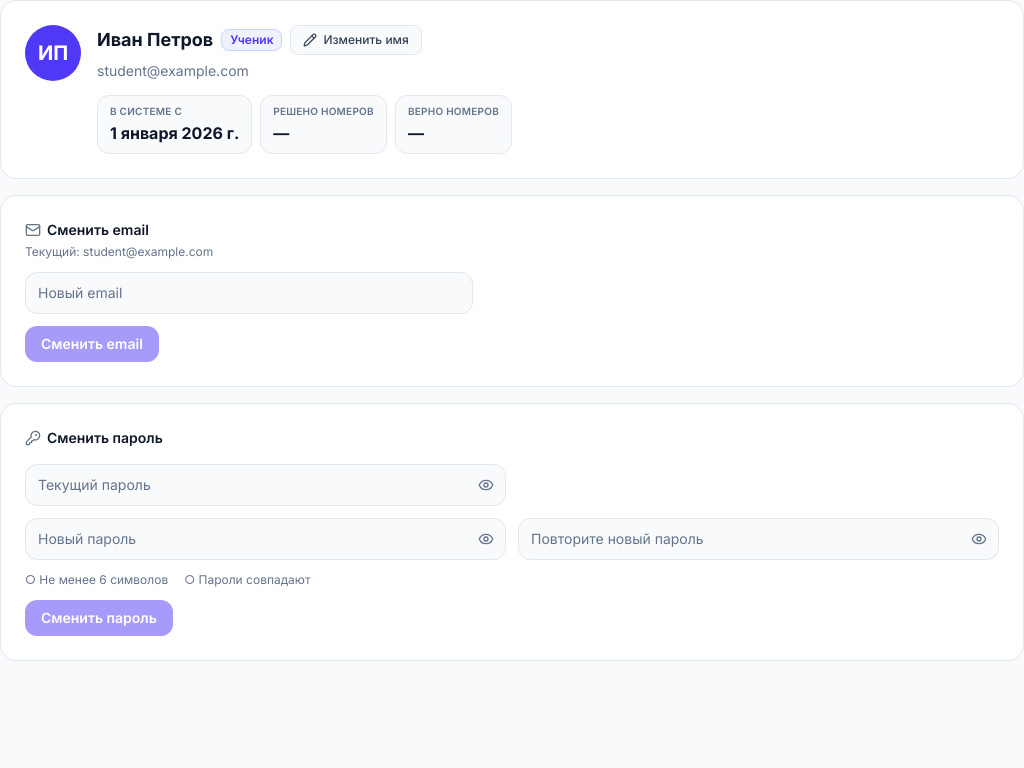
Test: Student ProfilePage — смена имени и фамилии через модал › открывает RenameNameModal по кнопке, без подтверждения не вызывает update, после подтверждения сохраняет и обновляет профиль
The image size is (1024, 768).
Check: the text "Решено номеров" is shown, box [273, 104, 374, 119]
Click the button "Изменить имя" at point(356, 40), box [290, 25, 422, 55]
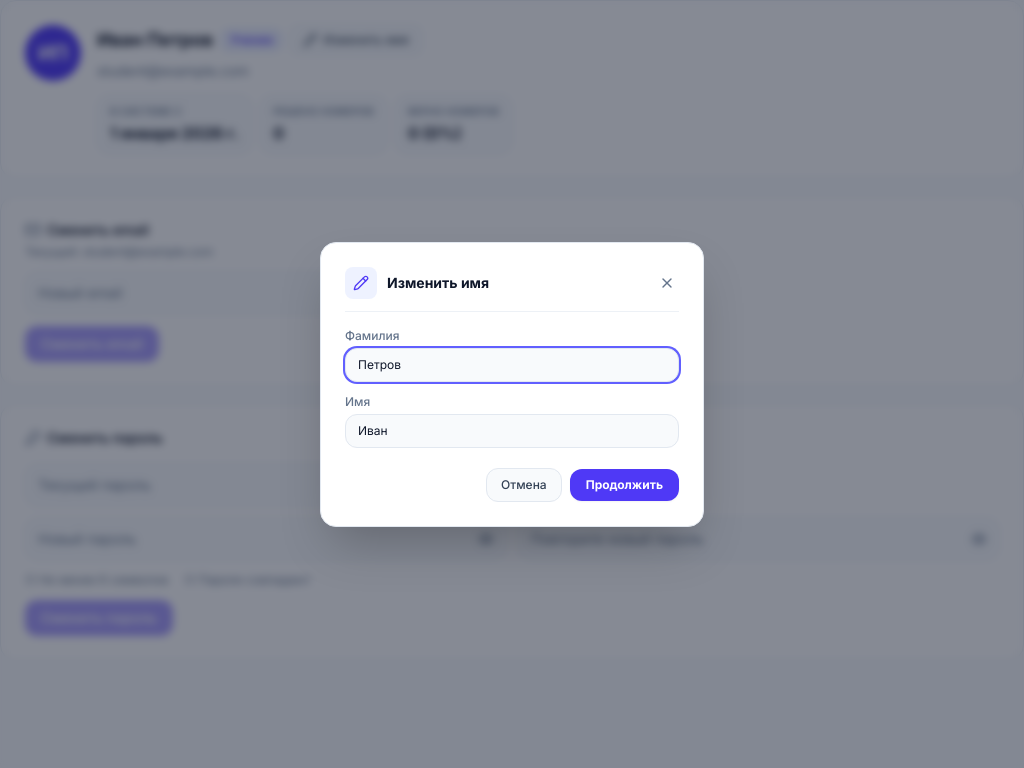
Check: the field labelled "Имя" holds "Иван"
Check: the field labelled "Фамилия" holds "Петров", box [345, 348, 679, 382]
Replace the text in the field labelled "Имя" with "  Артём  " at point(512, 430), box [345, 414, 679, 448]
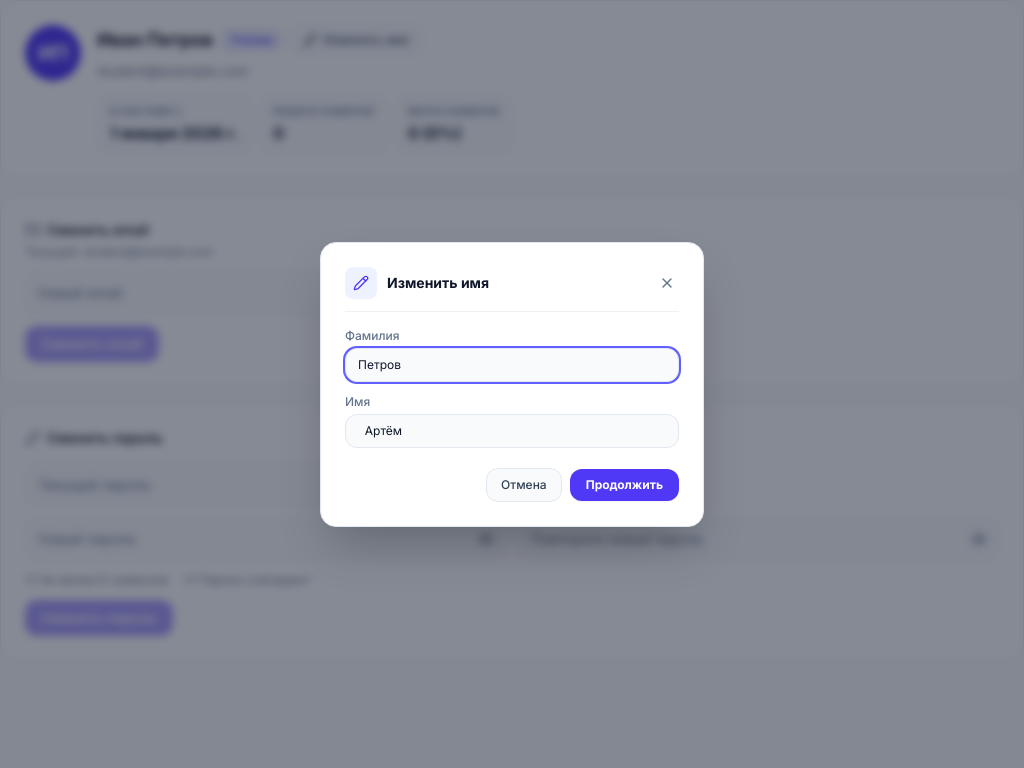
Replace the text in the field labelled "Фамилия" with "  Соколов-Белов  " at point(512, 364), box [345, 348, 679, 382]
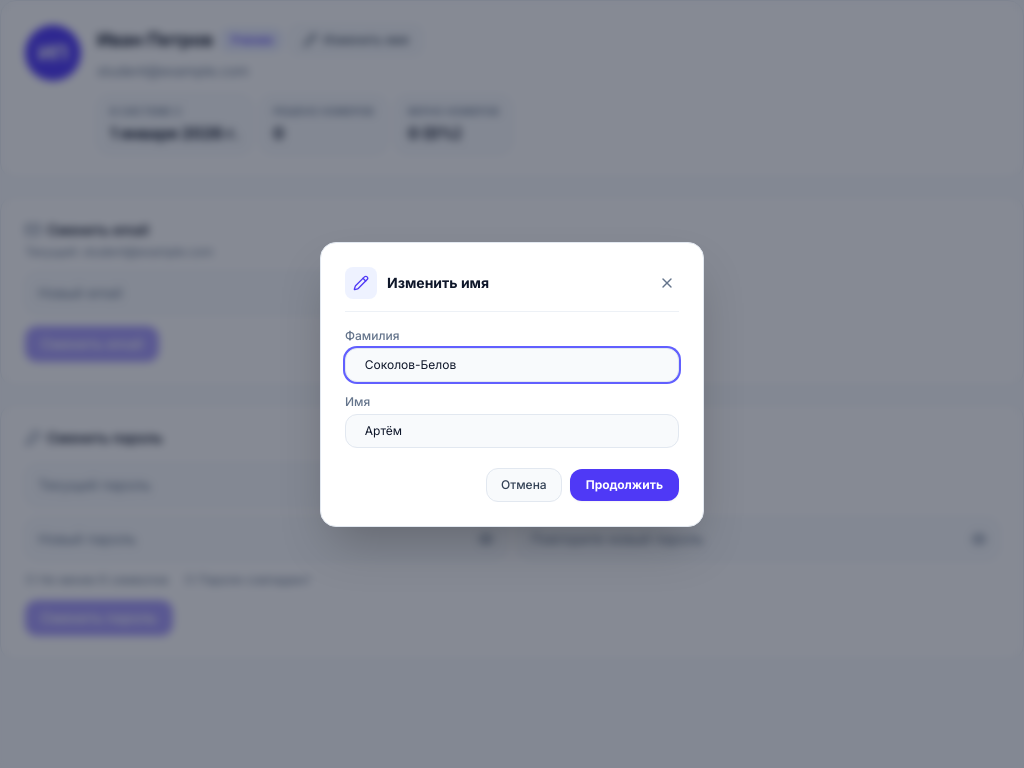
Click the button "Продолжить" at point(624, 484), box [570, 468, 679, 500]
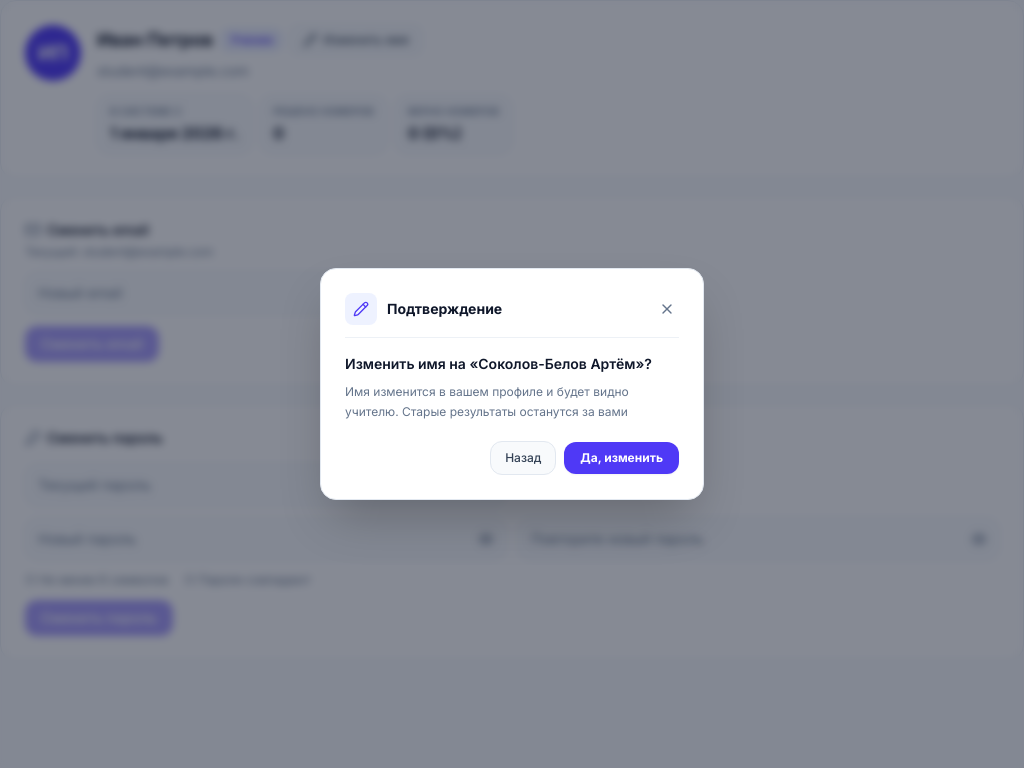
Check: the text "Изменить имя на «Соколов-Белов Артём»?" is shown, box [345, 354, 679, 374]
Check: the text "Имя изменится в вашем профиле и будет видно учителю. Старые результаты останутся за вами" is shown, box [345, 384, 629, 418]
Click the button "Да, изменить" at point(622, 458), box [564, 442, 679, 474]
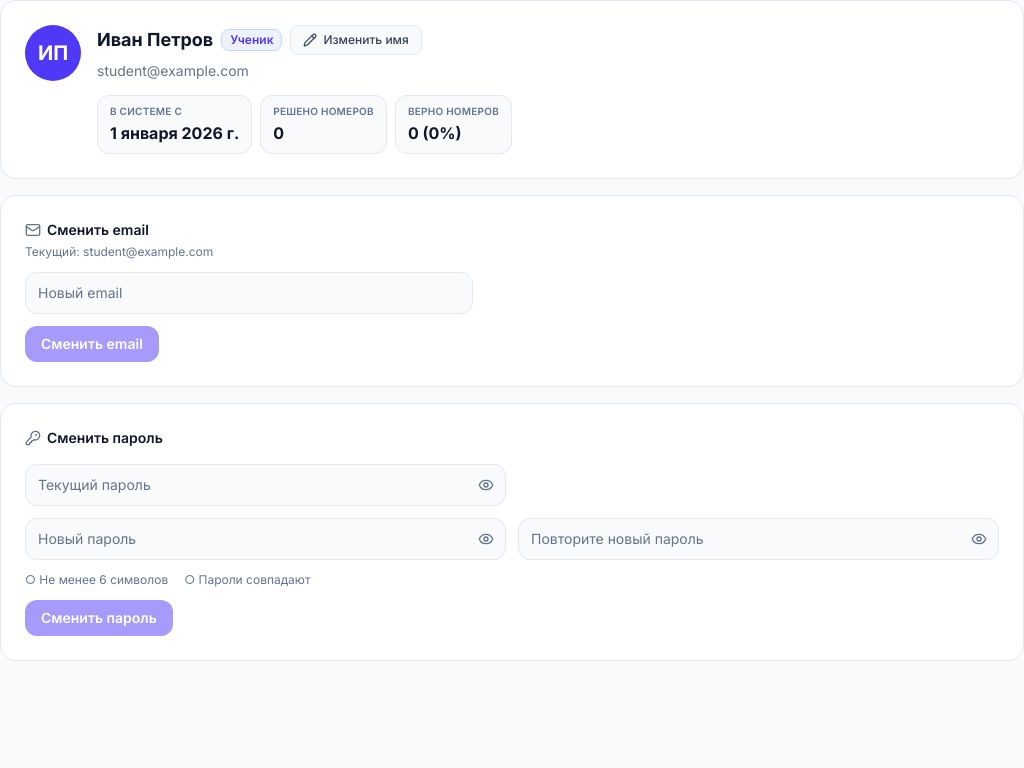
Check: the dialog is gone
